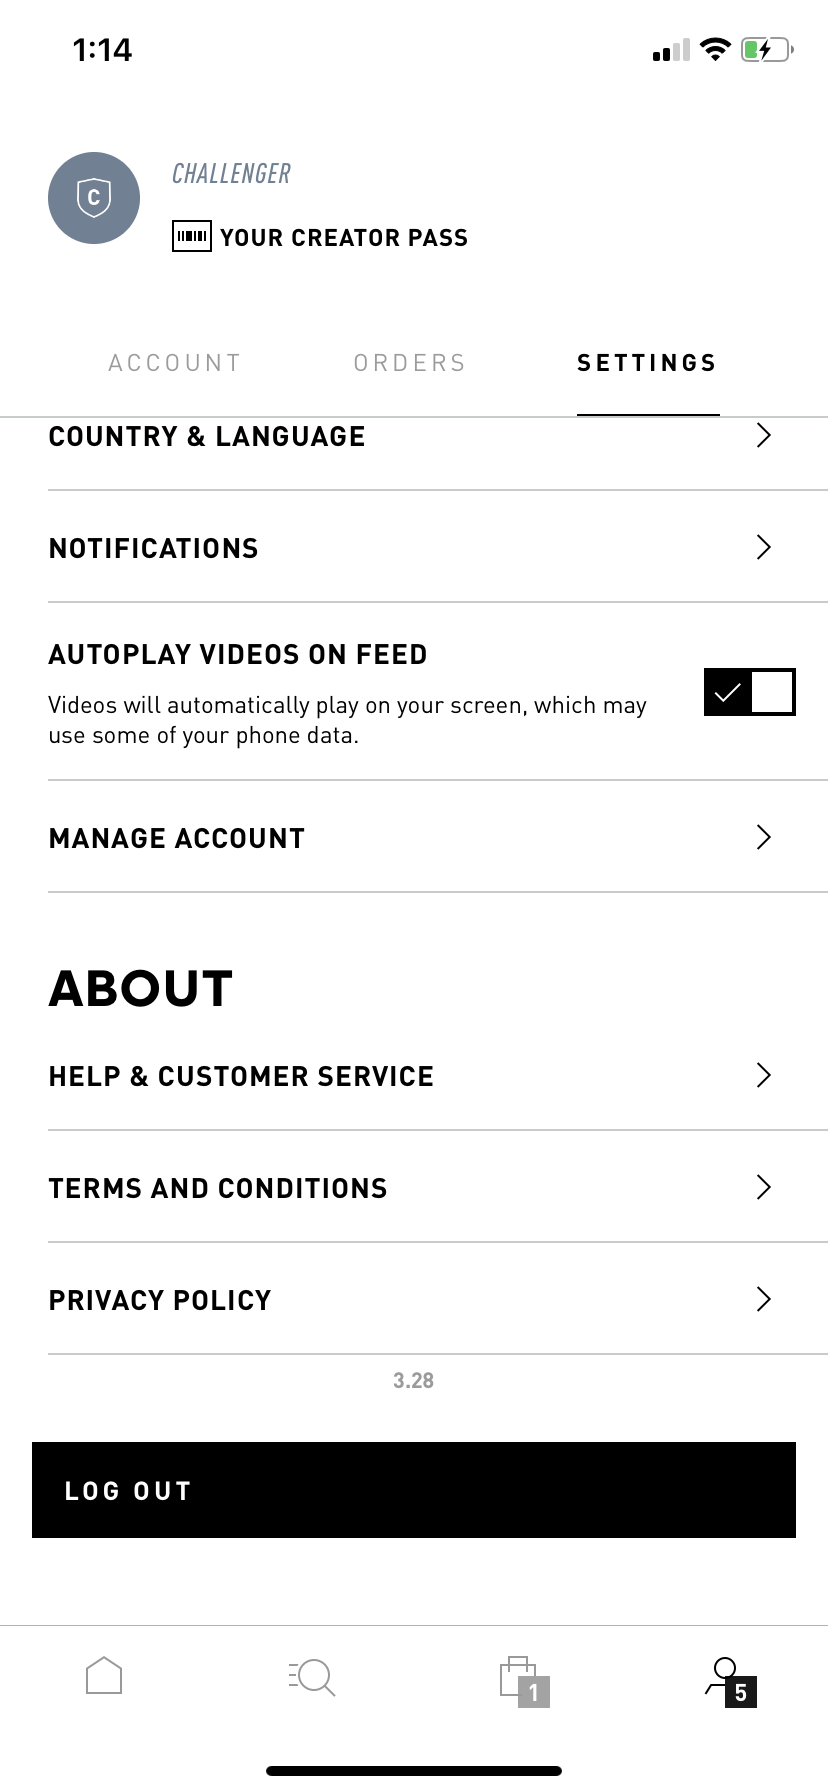Buttons: (27, 1422, 803, 1544)
Switches: (688, 646, 803, 733)
